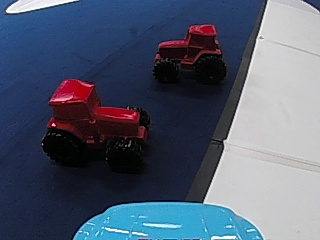tractor: (42, 71, 148, 167), (154, 21, 227, 86)
